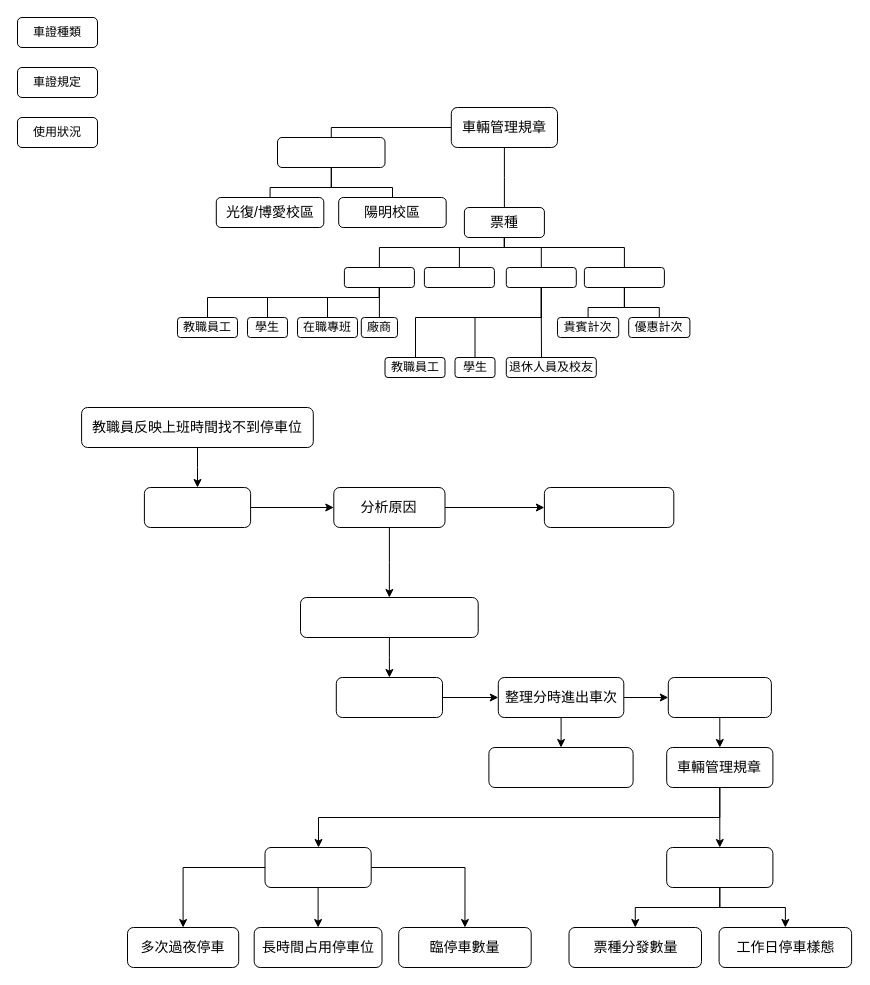
The diagram is 870 pixels wide and 985 high, and some of its shapes have lost their labels. The centre of each missing label's shape, as x and y in pixels:
"分類所有停車位占用原因" goes at (x=389, y=617).
"問題定位" goes at (x=197, y=507).
"提出建議或修正" goes at (x=608, y=507).
"校內停車位需求量" goes at (x=560, y=767).
"校區" goes at (x=330, y=152).
"正常使用分析" goes at (x=719, y=867).
"汽車停車券" goes at (x=623, y=277).
"異常使用分析" goes at (x=317, y=867).
"票種分類" goes at (x=719, y=697).
"計次汽車" goes at (x=540, y=277).
"貴賓汽車" goes at (x=458, y=277).
"車輛識別系統" goes at (x=388, y=697).
"長時汽車" goes at (x=378, y=277).
